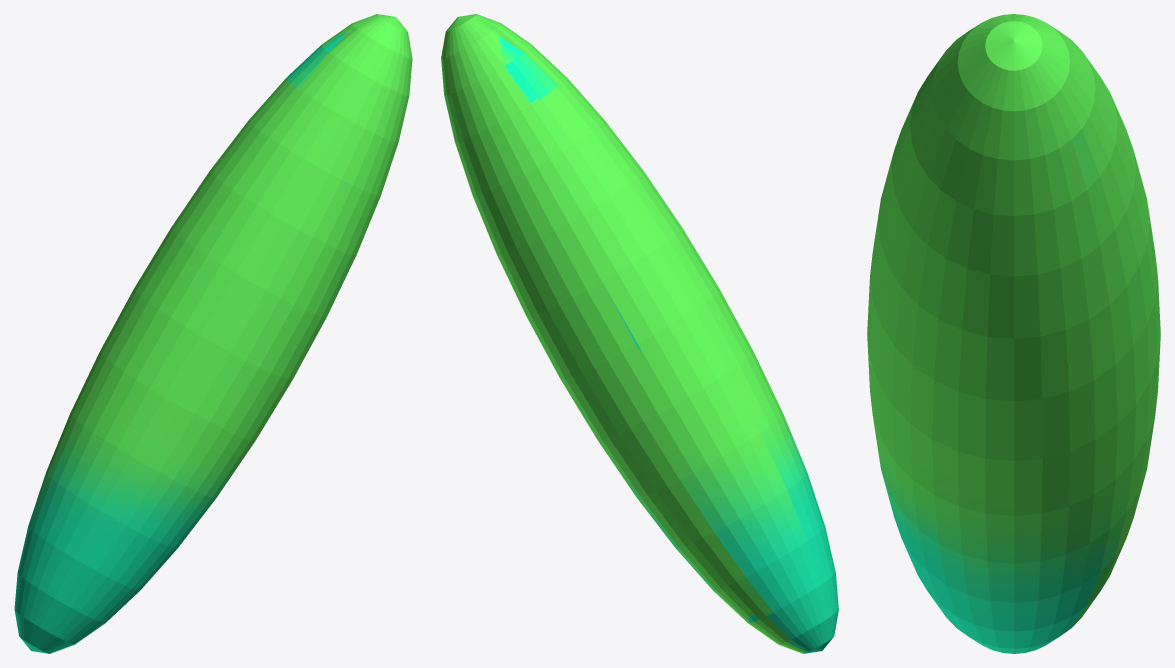
The model's file is enemy_armR.obj.
3 renders of one model, left to right at view 1: azimuth 30°, elevation 25°; view 2: azimuth 150°, elevation 25°; view 3: azimuth 270°, elevation 25°, orthographic. The views are drawn at different scales.
Parts seen in each view (by area): view 1: rightHand; view 2: rightHand; view 3: rightHand.
Part boxes in pixels (x1,y1,x2,y2): rightHand: (14,14,412,653); rightHand: (441,14,838,653); rightHand: (867,14,1160,653).
Bounding box in the file's own units: 2.43 × 3.32 × 0.9998.
Materials: 1 (1 with a texture image).
